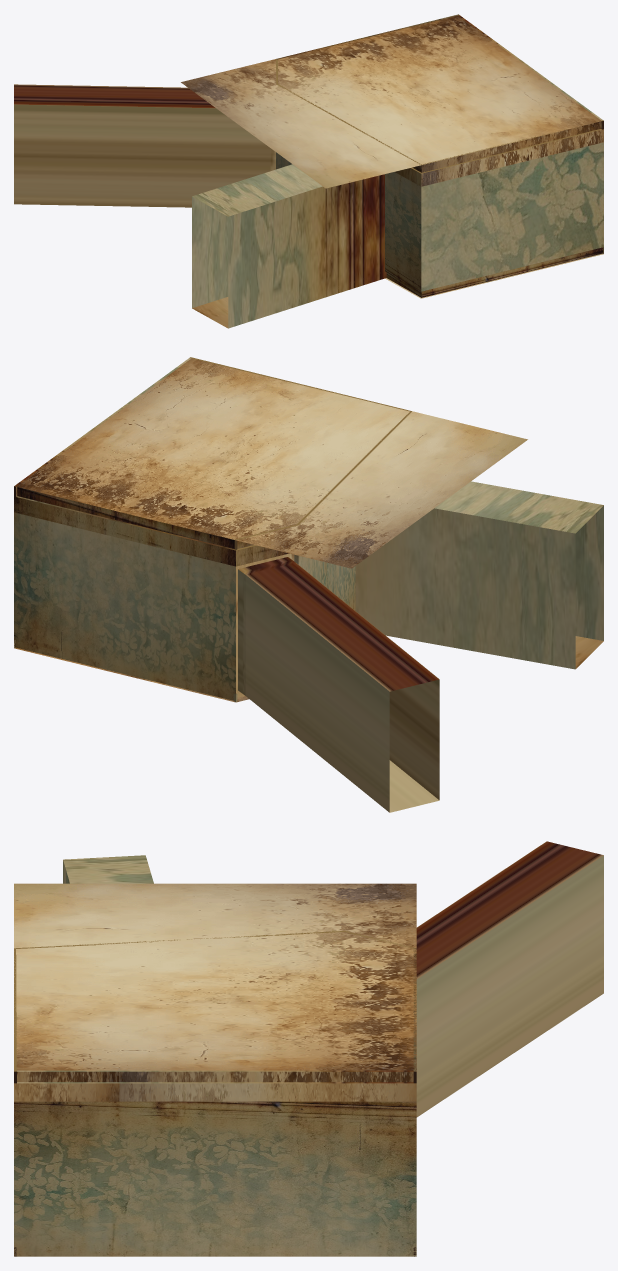
Rendered from wake room3.fbx.
The picture shows the model from 3 angles, top to bottom: view 1: azimuth 30°, elevation 25°; view 2: azimuth 150°, elevation 25°; view 3: azimuth 270°, elevation 25°; orthographic projection. The views are drawn at different scales.
Visible parts, largest first — view 1: waking room; view 2: waking room; view 3: waking room.
Boxes of the visible parts, bbox=[...] form: waking room: bbox=[14, 14, 603, 328]; waking room: bbox=[14, 357, 603, 812]; waking room: bbox=[14, 841, 603, 1256].
Size of the model in its own units: 1537 by 493 by 1426.
Materials: 2 (2 with a texture image).
